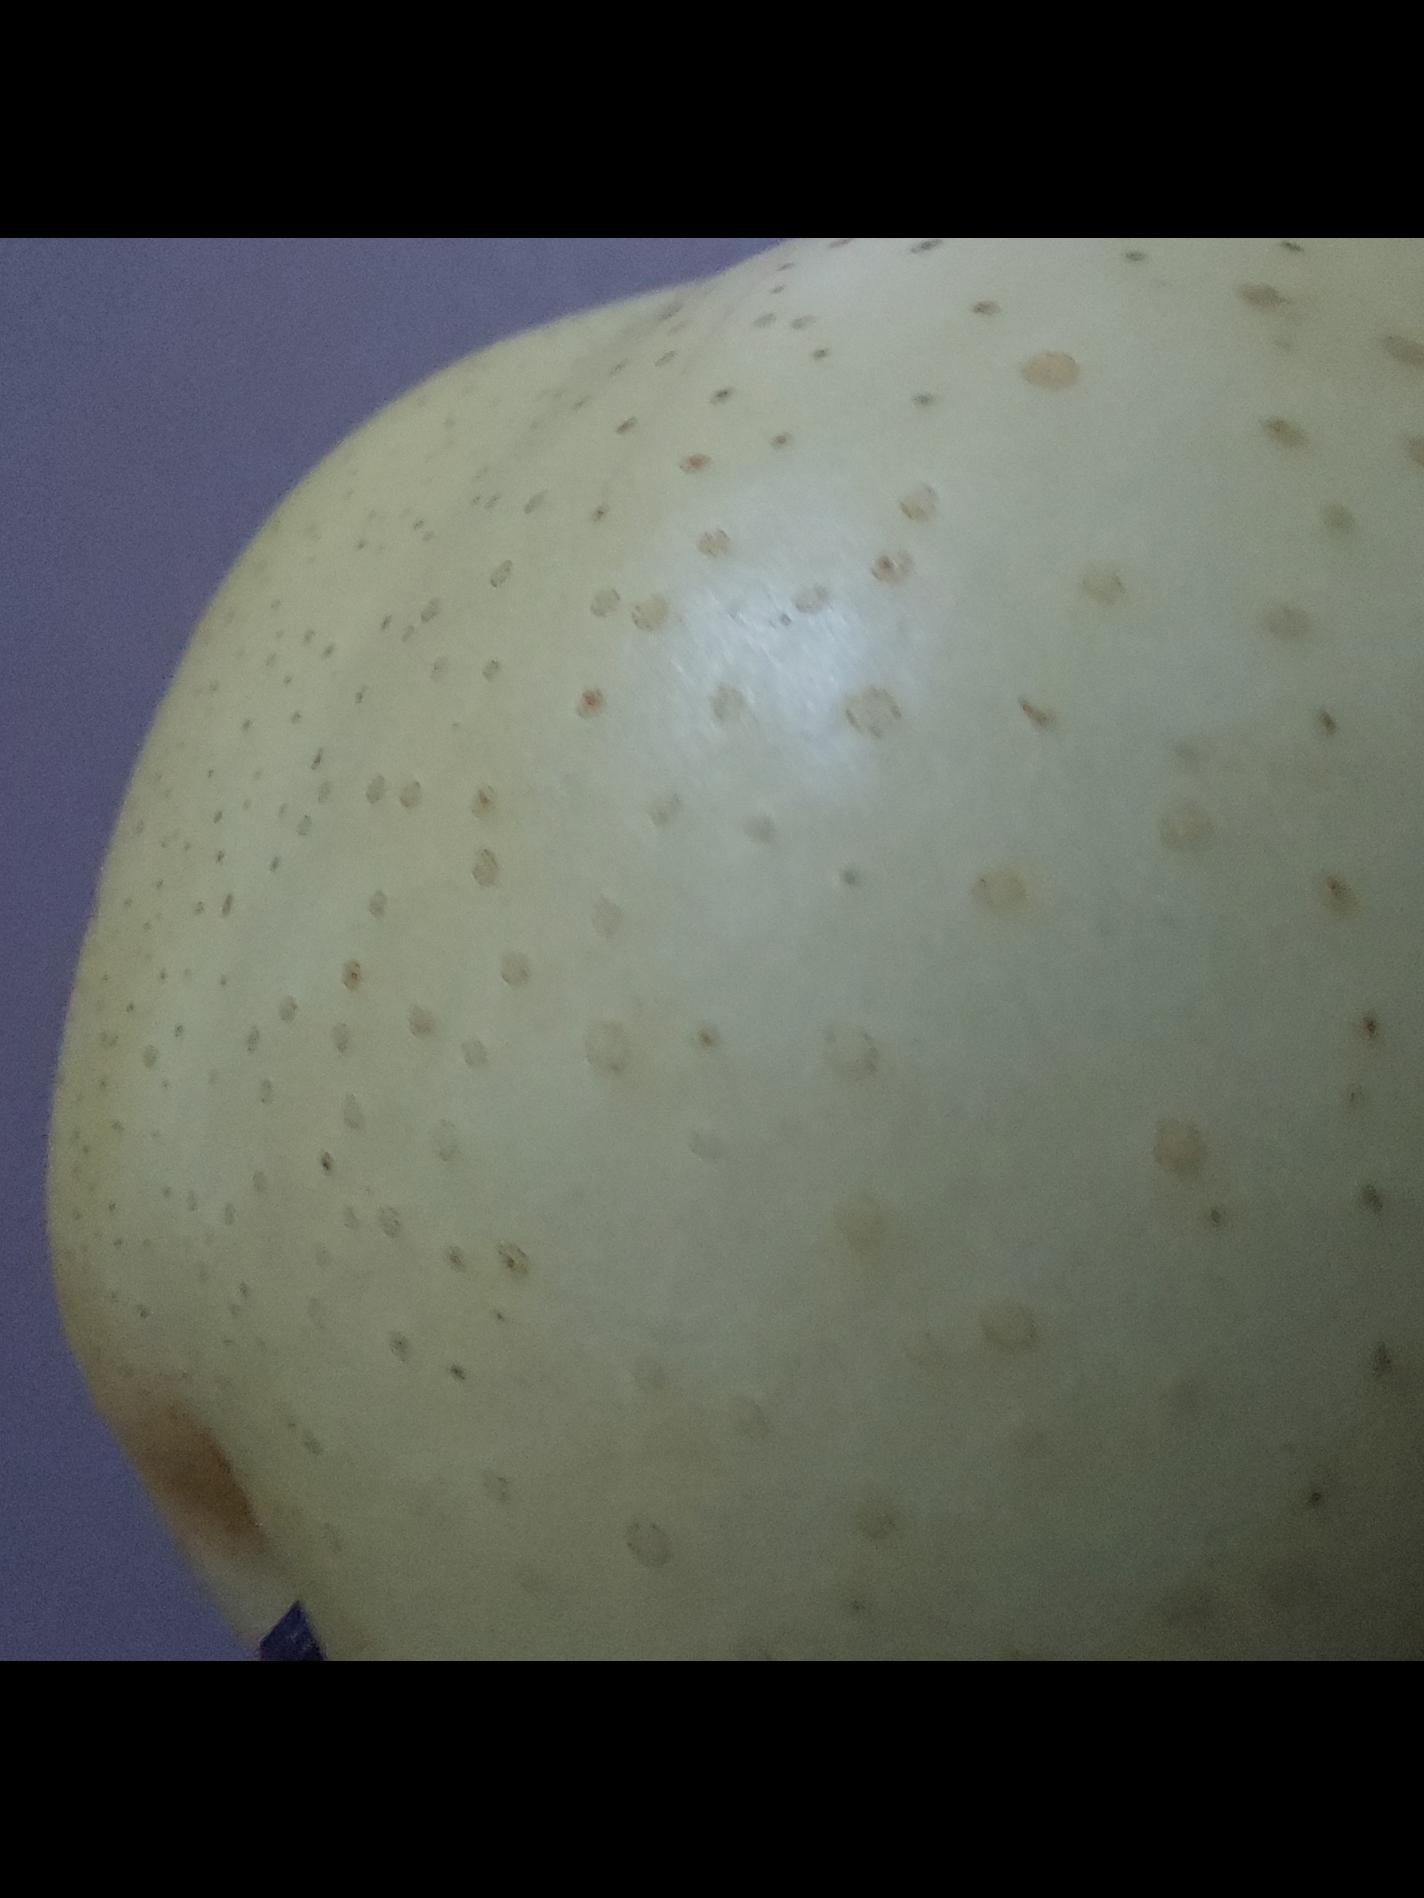Good Pear: (37, 236, 1424, 1662)
